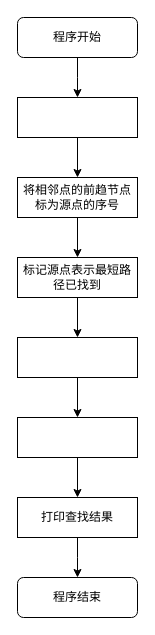
Image size: 155x635. Some labels were removed from this diagram. Each missing label, with the centre of its shape:
"寻找未标记的点中到源点距离最小的点并标记" goes at pixel 77 357.
"尝试以最新标记点为前趋节点，调整其他各点的最短路径" goes at pixel 77 437.
"记录源点到其它点的直接距离（不相邻则等于无穷）" goes at pixel 77 117.
